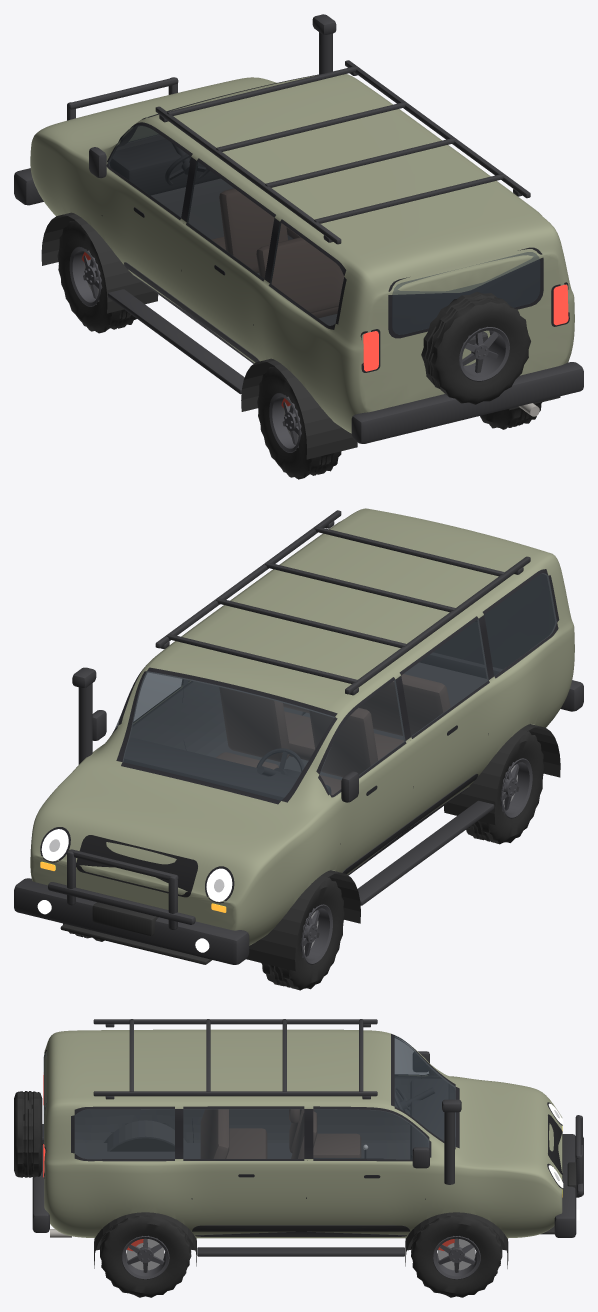
Rendered from 08_tundrax_4x4.glb.
The picture shows the model from 3 angles, top to bottom: view 1: azimuth 30°, elevation 25°; view 2: azimuth 150°, elevation 25°; view 3: azimuth 270°, elevation 25°; orthographic projection. The views are drawn at different scales.
Visible parts, largest first — view 1: Body.013, Glass.013, Interior.013, SpareWheel, ArchLiners.012, Bumper_Rear.005, Glass_Rear, Wheel_RL.013, Rear_Window_Back, Wheel_FL.013, RoofRack_Rail, SideStep.001 (+10 smaller); view 2: Body.013, Glass.013, Interior.013, Interior_Shell.012, ArchLiners.012, Bumper_Front.005, Wheel_FL.013, Wheel_RL.013, RoofRack_Rail, SideStep.001, Grille_Main.003, BullBar_Low (+13 smaller); view 3: Body.013, Glass.013, Interior.013, Interior_Shell.012, Wheel_FR.013, Wheel_RR.013, RoofRack_Rail, SpareWheel, Cladding, ArchLiners.012, SideStep.001, Bumper_Front.005 (+5 smaller).
Boxes of the visible parts, x1=… form: Body.013: x1=30, y1=73, x2=574, y2=433; Glass.013: x1=108, y1=100, x2=343, y2=325; Interior.013: x1=109, y1=139, x2=343, y2=325; SpareWheel: x1=421, y1=291, x2=530, y2=404; ArchLiners.012: x1=41, y1=212, x2=560, y2=459; Bumper_Rear.005: x1=351, y1=362, x2=583, y2=443; Glass_Rear: x1=392, y1=252, x2=540, y2=334; Wheel_RL.013: x1=257, y1=367, x2=341, y2=479; Rear_Window_Back: x1=388, y1=247, x2=543, y2=338; Wheel_FL.013: x1=57, y1=220, x2=136, y2=333; RoofRack_Rail: x1=155, y1=60, x2=530, y2=244; SideStep.001: x1=107, y1=289, x2=244, y2=394; Body.013: x1=30, y1=508, x2=574, y2=945; Glass.013: x1=114, y1=573, x2=556, y2=800; Interior.013: x1=123, y1=662, x2=486, y2=800; Interior_Shell.012: x1=122, y1=573, x2=556, y2=775; ArchLiners.012: x1=246, y1=712, x2=560, y2=971; Bumper_Front.005: x1=14, y1=878, x2=249, y2=964; Wheel_FL.013: x1=261, y1=877, x2=344, y2=990; Wheel_RL.013: x1=466, y1=731, x2=544, y2=844; RoofRack_Rail: x1=155, y1=510, x2=530, y2=694; SideStep.001: x1=357, y1=800, x2=494, y2=905; Grille_Main.003: x1=76, y1=835, x2=197, y2=897; BullBar_Low: x1=48, y1=882, x2=195, y2=924; Body.013: x1=44, y1=1029, x2=562, y2=1238; Glass.013: x1=74, y1=1035, x2=455, y2=1159; Interior.013: x1=74, y1=1079, x2=449, y2=1159; Interior_Shell.012: x1=74, y1=1037, x2=455, y2=1151; Wheel_FR.013: x1=411, y1=1215, x2=502, y2=1297; Wheel_RR.013: x1=100, y1=1215, x2=191, y2=1297; RoofRack_Rail: x1=93, y1=1019, x2=377, y2=1096; SpareWheel: x1=14, y1=1091, x2=42, y2=1177; Cladding: x1=192, y1=1225, x2=410, y2=1236; ArchLiners.012: x1=94, y1=1138, x2=508, y2=1268; SideStep.001: x1=197, y1=1247, x2=404, y2=1256; Bumper_Front.005: x1=554, y1=1134, x2=576, y2=1237.
Size of what is drawn, in the model's own units: 2.16 by 2.02 by 5.22.
